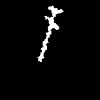double_crochet: (38, 6, 62, 61)
